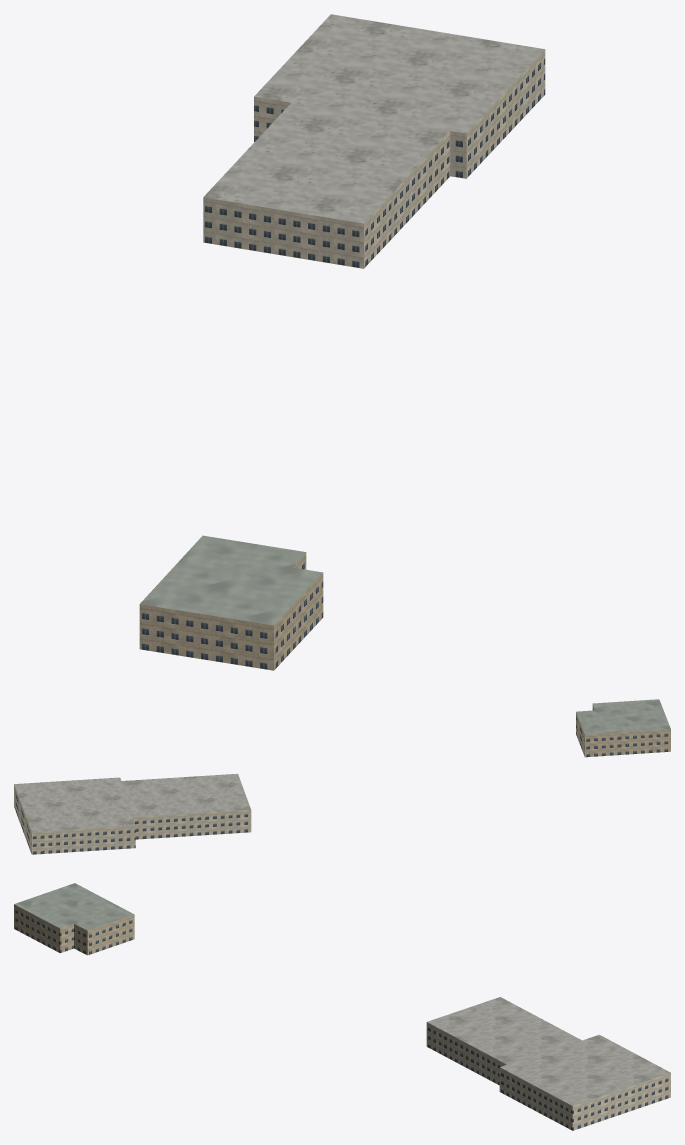
Rendered from ArahaTown_Block_E00000_N04096.gltf.
The picture shows the model from 3 angles, top to bottom: view 1: azimuth 30°, elevation 25°; view 2: azimuth 150°, elevation 25°; view 3: azimuth 270°, elevation 25°; orthographic projection. The views are drawn at different scales.
Parts seen in each view (by area): view 1: ArahaTown_Block_E00000_N04096; view 2: ArahaTown_Block_E00000_N04096; view 3: ArahaTown_Block_E00000_N04096.
Part boxes in pixels (left/top/right/bottom): ArahaTown_Block_E00000_N04096: left=139, top=14, right=545, bottom=670; ArahaTown_Block_E00000_N04096: left=14, top=699, right=670, bottom=854; ArahaTown_Block_E00000_N04096: left=14, top=883, right=670, bottom=1130.
Size of the model in its own units: 189 by 12.13 by 228.
Materials: 4 (4 with a texture image).
